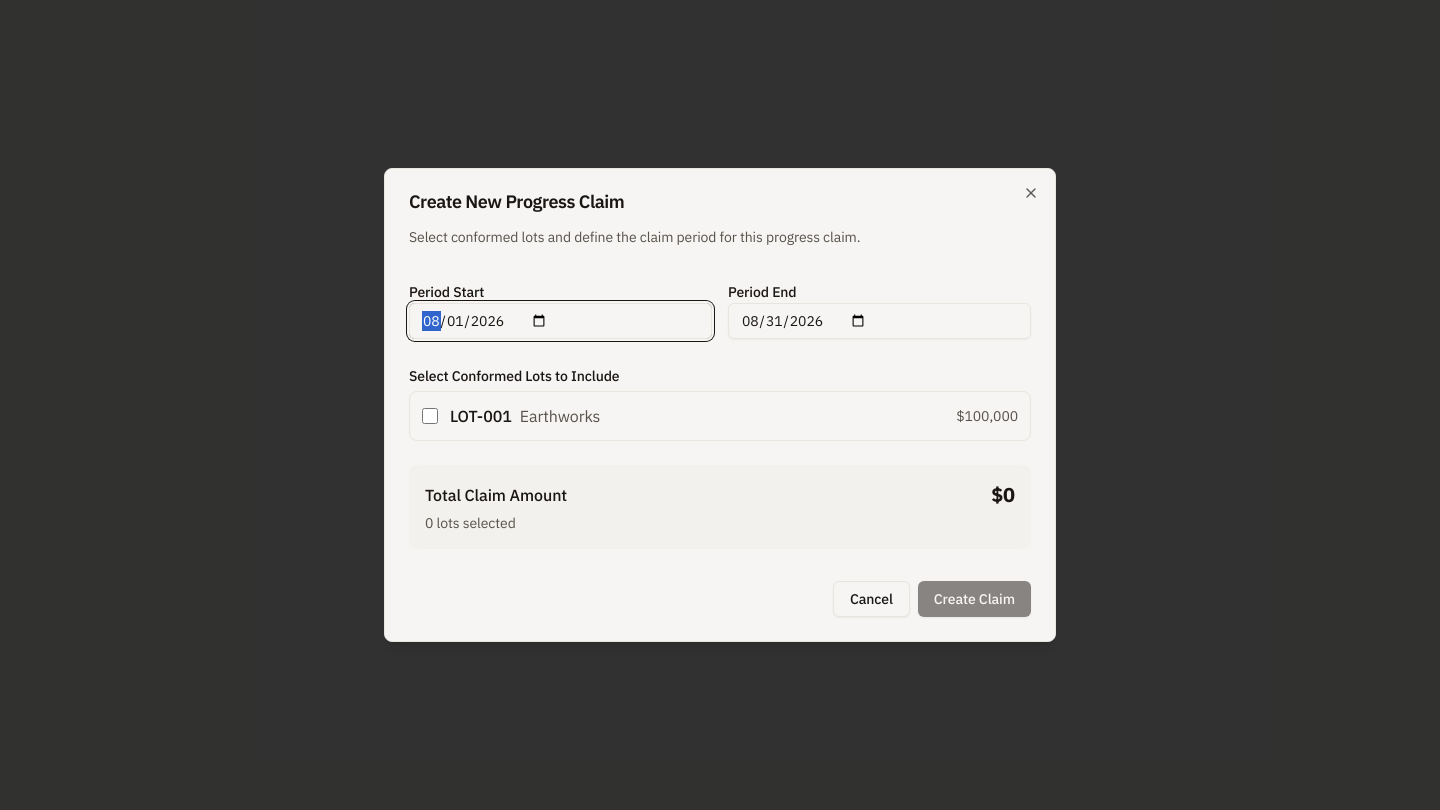
Test: CreateClaimModal create flow › requires selected lot claim increments to be greater than zero
Expected: the text "LOT-001" is shown, top-left (450, 406), bottom-right (512, 426)
Click the checkbox named "Select LOT-001" at x=430, y=416, box top-left (422, 408), bottom-right (438, 424)
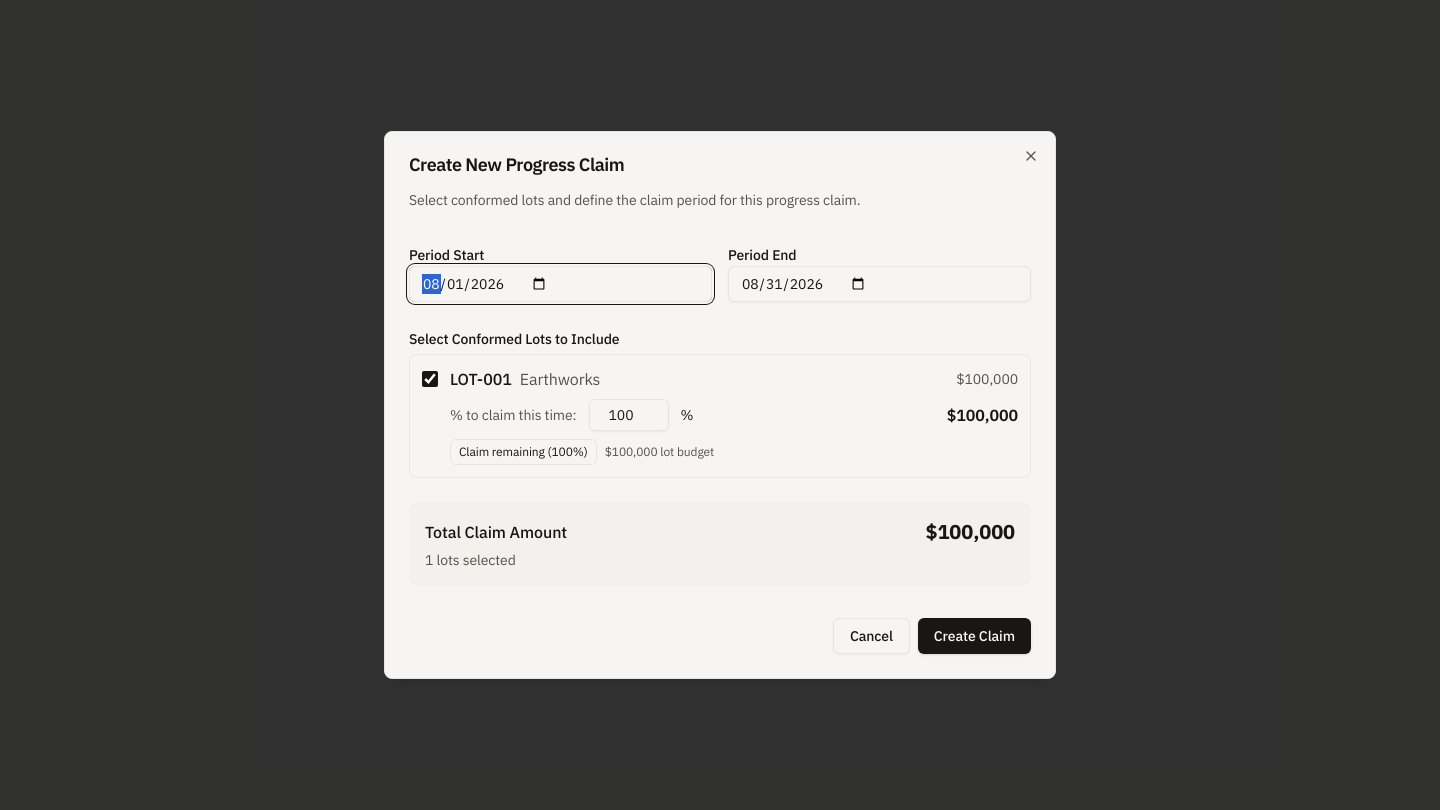
Replace the text in the number field labelled "% to claim this time:" with "0" at x=628, y=415, box top-left (588, 399), bottom-right (668, 431)
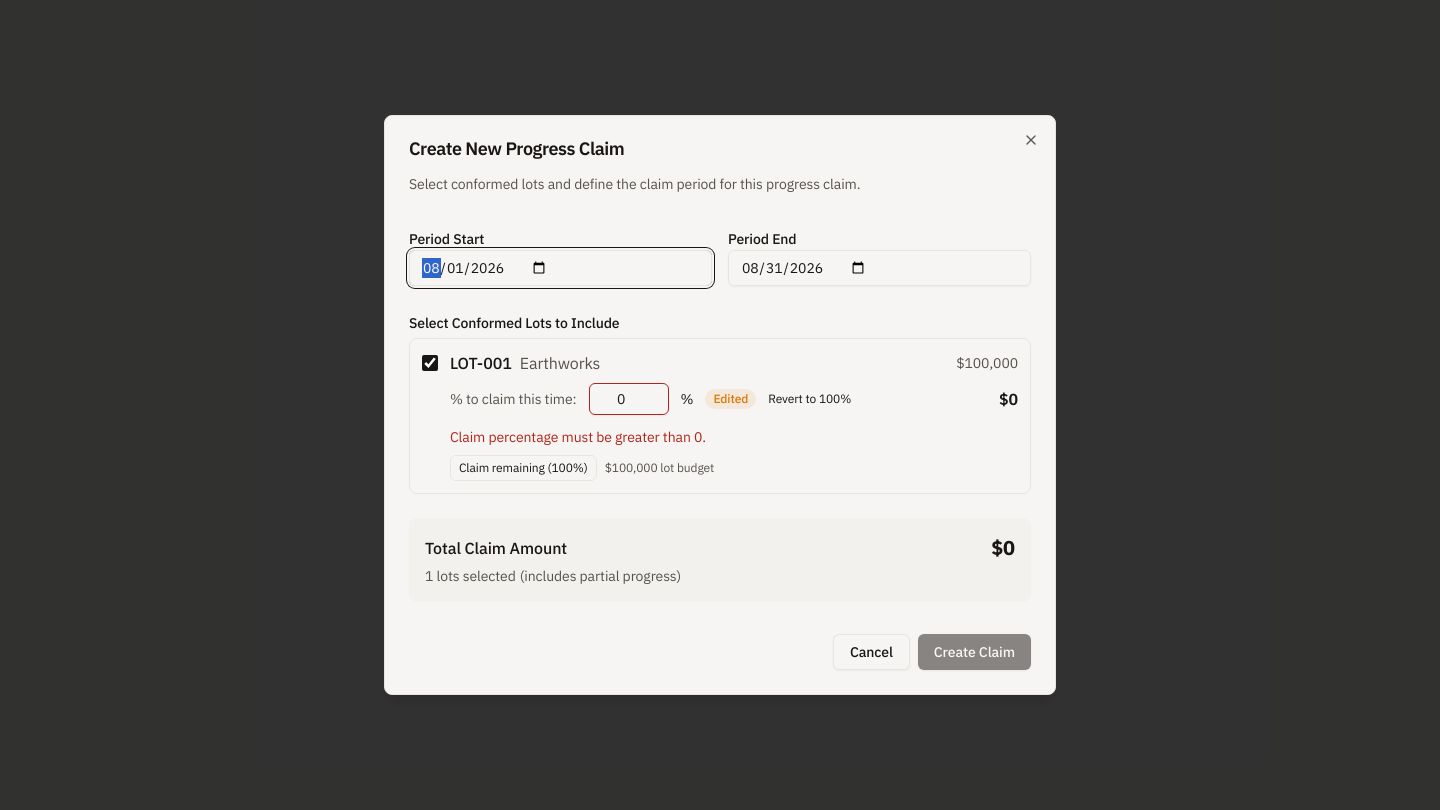
Expected: the message reads "Claim percentage must be greater than 0.", top-left (450, 428), bottom-right (706, 446)
Expected: the button "Create Claim" is disabled, top-left (918, 634), bottom-right (1031, 670)
